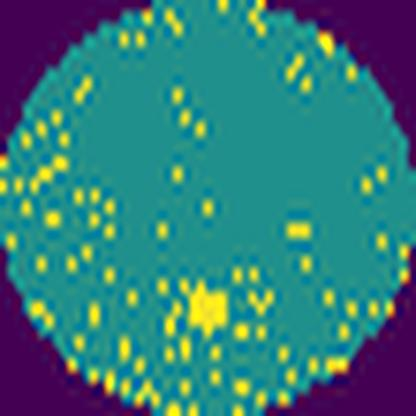Loc: (188, 276, 228, 334)
